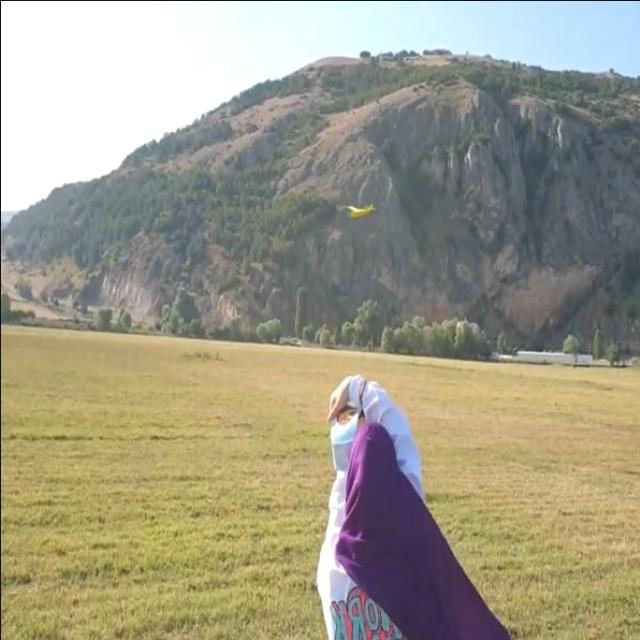plane: (343, 199, 378, 220)
